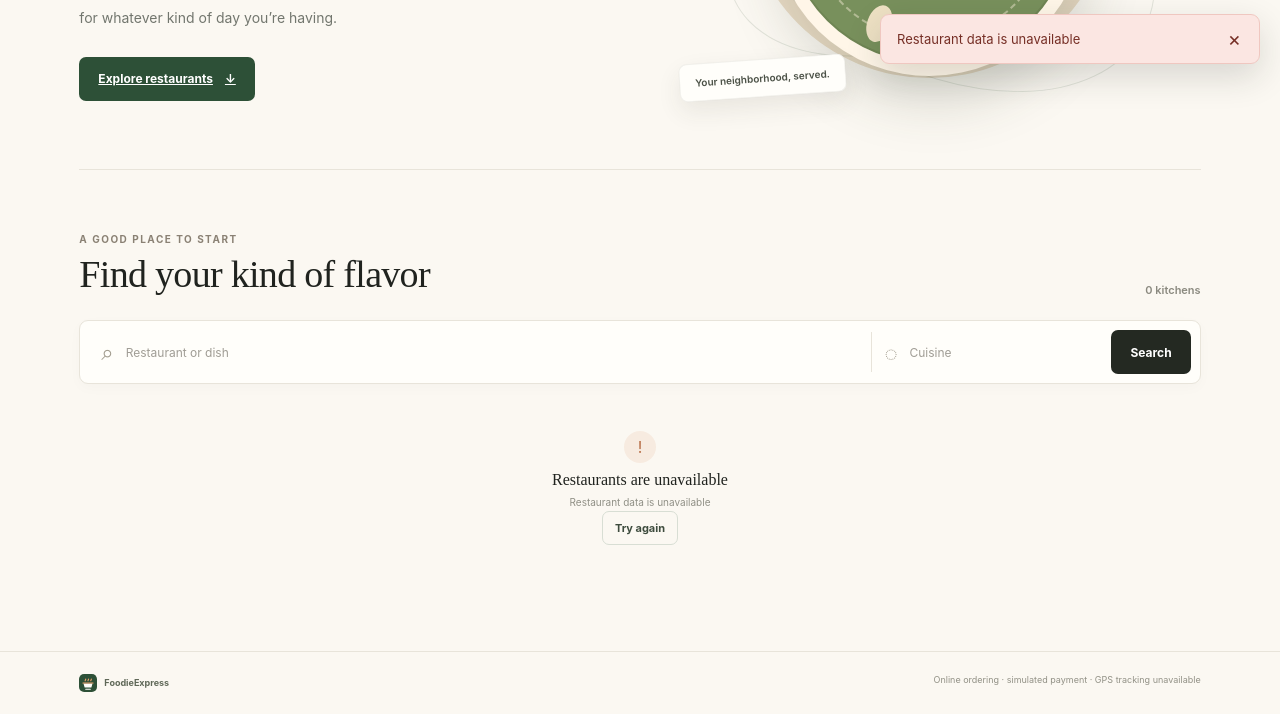
Test: FoodieExpress UI › shows listing failures distinctly from empty results and supports retry
(page scrolled)
Expected: the text "Restaurants are unavailable" is shown, x1=552 y1=471 x2=728 y2=489
Expected: the text "Restaurant data is unavailable" is shown 2 times, x1=897 y1=30 x2=1080 y2=48; x1=570 y1=495 x2=710 y2=511
Click the button "Try again" at (640, 528), box x1=602 y1=511 x2=678 y2=545
(page scrolled)
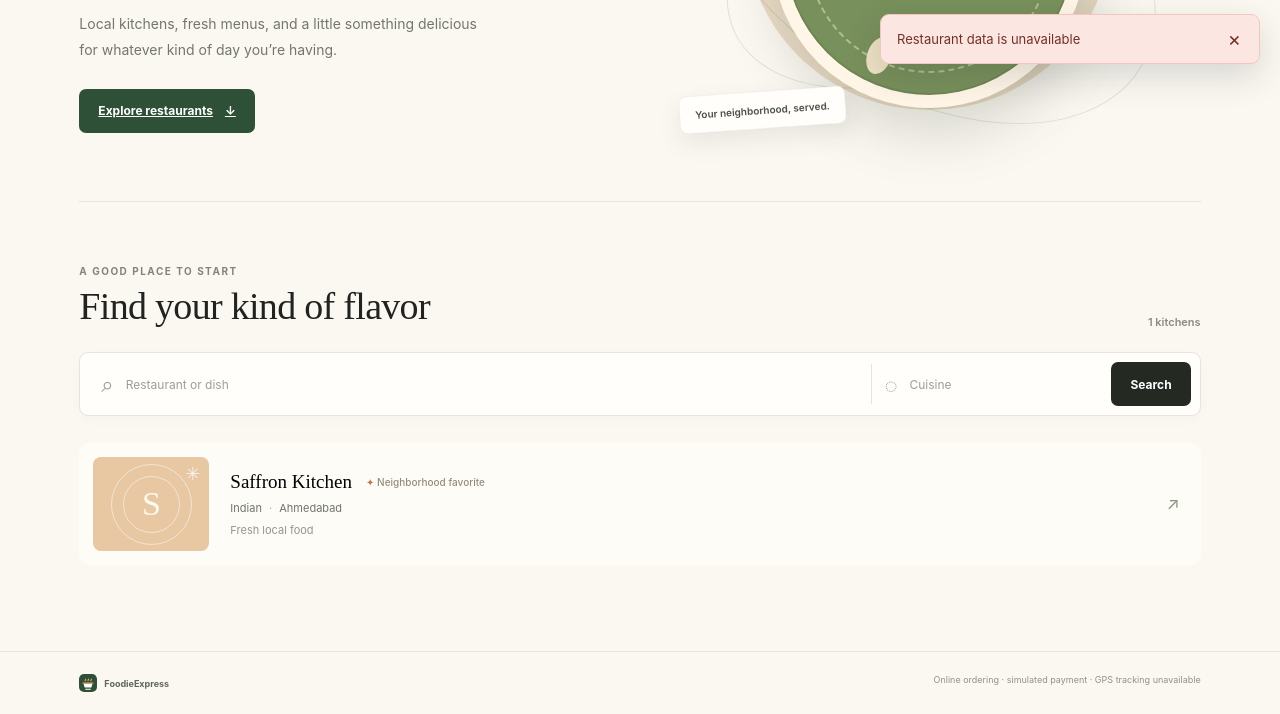
Now the button "Saffron Kitchen" is shown, box x1=79 y1=443 x2=1201 y2=565
